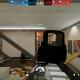Character: (38, 40, 40, 44)
Head: (40, 40, 40, 41)
